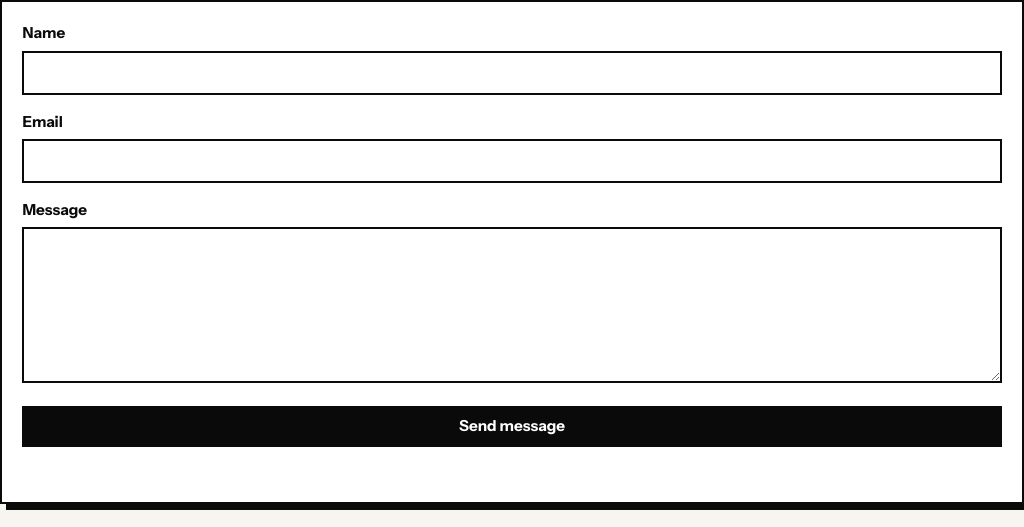
Scenario: ContactForm contract › preserves values after rejection and permits a successful retry
This screenshot has width=1024, height=527.
Step 1. Type "Han" into the field labelled "Name" → (512, 73), box [22,51,1002,95]
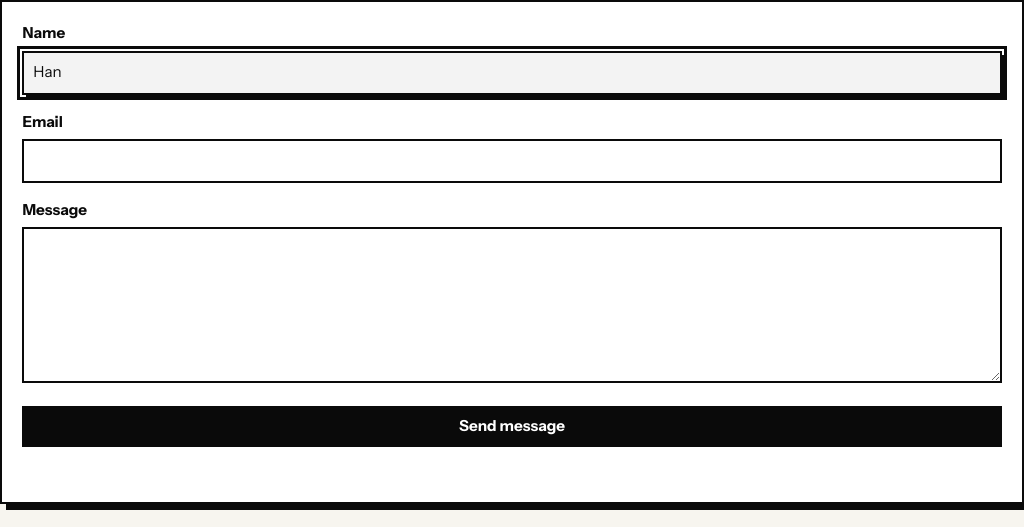
Step 2. Type "han@example.com" into the field labelled "Email" → (512, 161), box [22,139,1002,183]
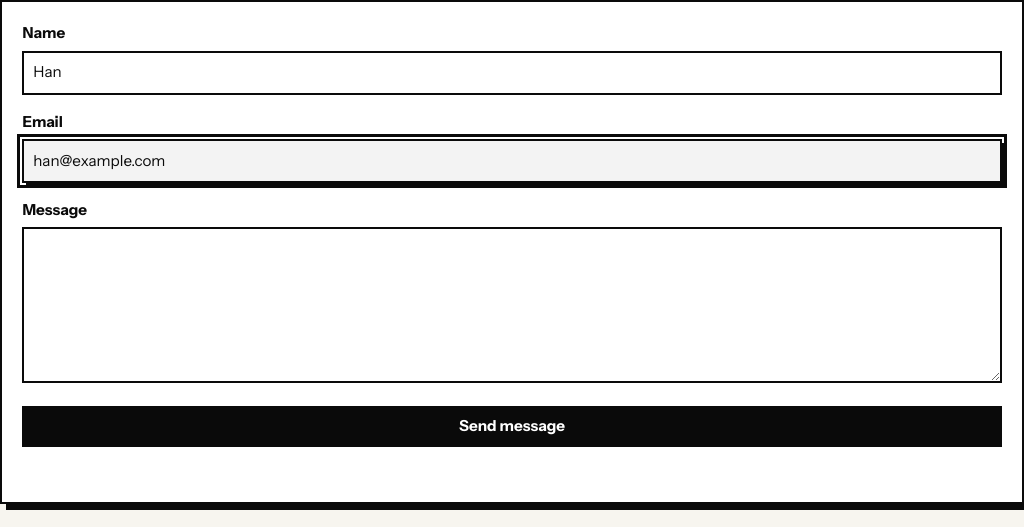
Step 3. Type "A considered product question." into the text box labelled "Message" → (512, 305), box [22,227,1002,383]
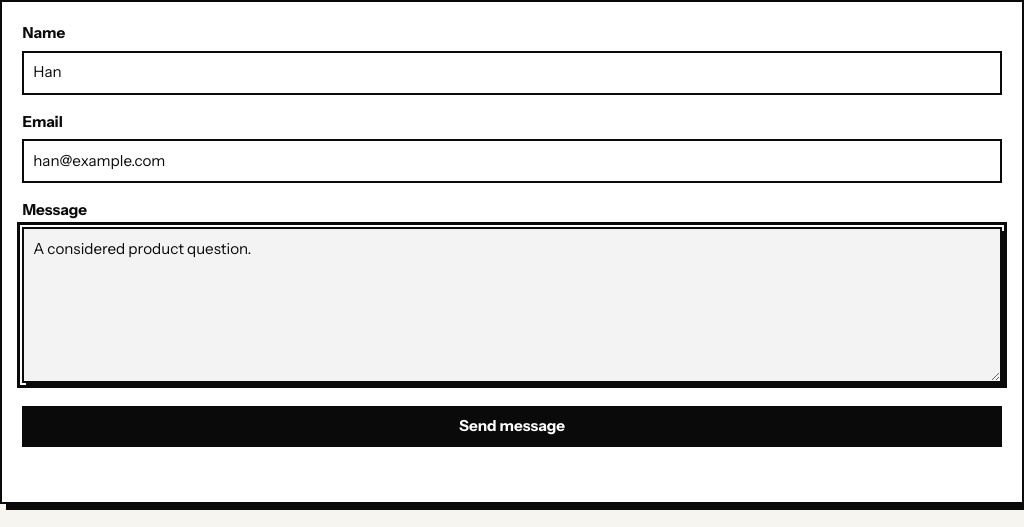
Step 4. Click the button "Send message" → click(512, 426), box [22,406,1002,447]
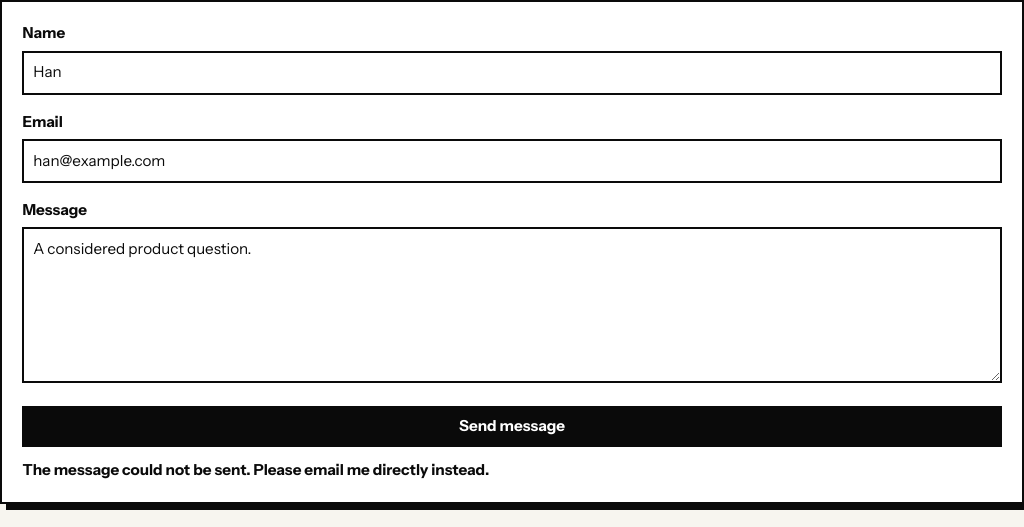
Expected: the message reads "The message could not be sent. Please email me directly instead.", [22,460,489,479]
Step 5. Click the button "Send message" → click(512, 426), box [22,406,1002,447]
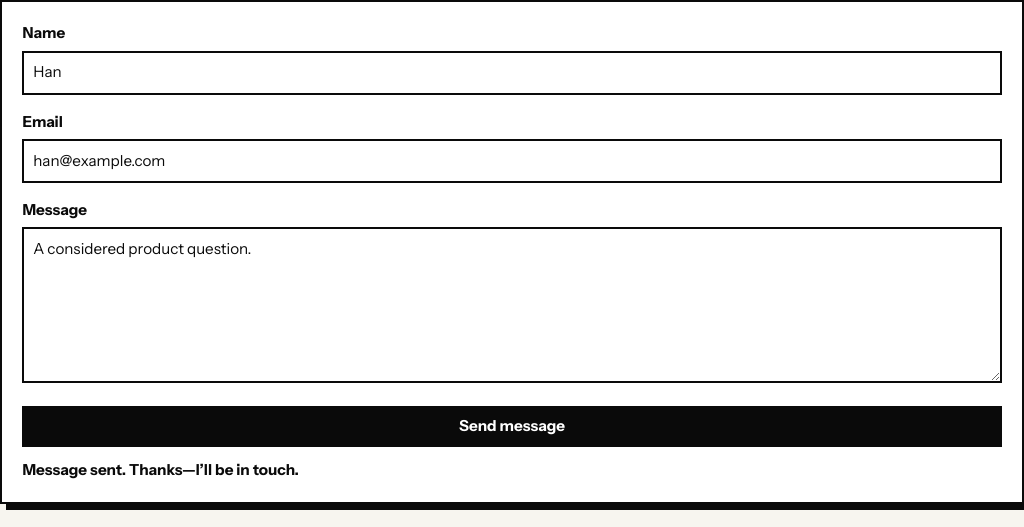
Expected: the message reads "Message sent. Thanks—I’ll be in touch.", [22,460,299,479]
